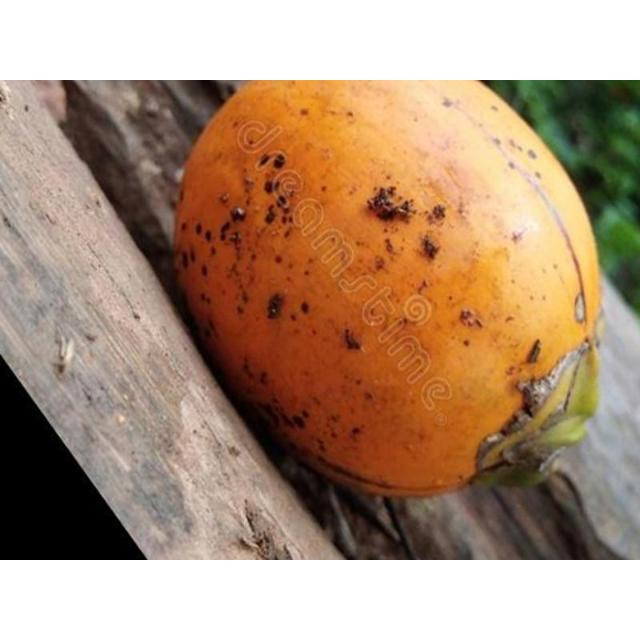good: (171, 80, 610, 502)
